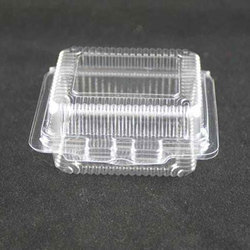plastic: (28, 46, 221, 179)
